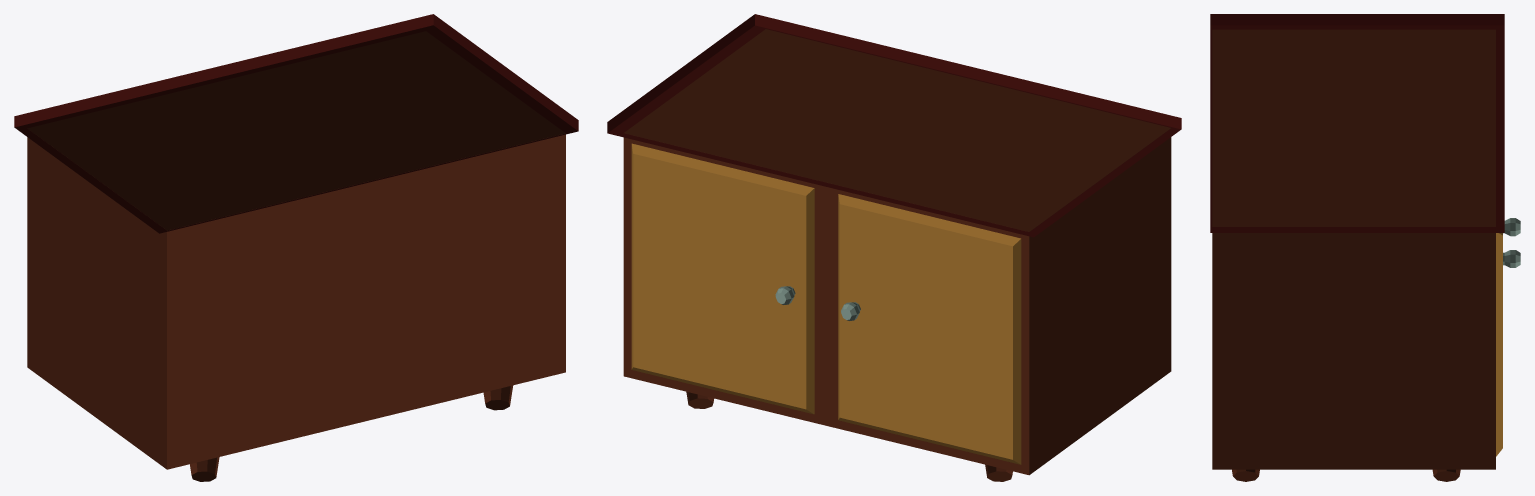
File: Cabinet 6.fbx
The picture shows the model from 3 angles, left to right: view 1: azimuth 30°, elevation 25°; view 2: azimuth 150°, elevation 25°; view 3: azimuth 270°, elevation 25°; orthographic projection.
Visible parts, largest first — view 1: Node 0; view 2: Node 0, Node 1, Node 2; view 3: Node 0, Node 2.
Boxes of the visible parts, x1,y1,x2,y2 form: Node 0: [14, 14, 578, 481]; Node 0: [607, 14, 1181, 481]; Node 1: [838, 194, 1021, 464]; Node 2: [631, 143, 814, 414]; Node 0: [1210, 14, 1504, 481]; Node 2: [1496, 233, 1520, 456].
Size of the model in its own units: 0.7776 by 0.7911 by 1.23.
